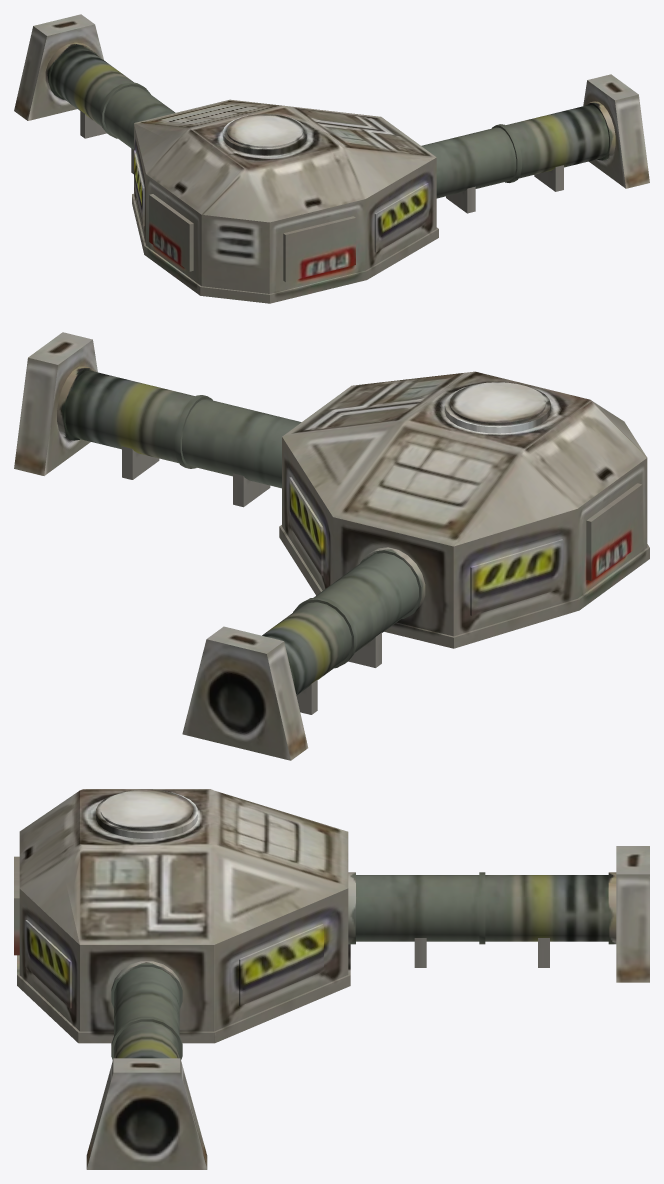
The model's file is cornerpipe_cad.glb.
The picture shows the model from 3 angles, top to bottom: view 1: azimuth 30°, elevation 25°; view 2: azimuth 150°, elevation 25°; view 3: azimuth 270°, elevation 25°; orthographic projection. The views are drawn at different scales.
Parts seen in each view (by area): view 1: CornerPipe; view 2: CornerPipe; view 3: CornerPipe.
Boxes of the visible parts, x1=… form: CornerPipe: x1=14, y1=14, x2=649, y2=303; CornerPipe: x1=14, y1=332, x2=649, y2=760; CornerPipe: x1=14, y1=789, x2=649, y2=1169.
Bounding box in the file's own units: 16.16 × 4.15 × 16.16.
1 material, 1 textured.
